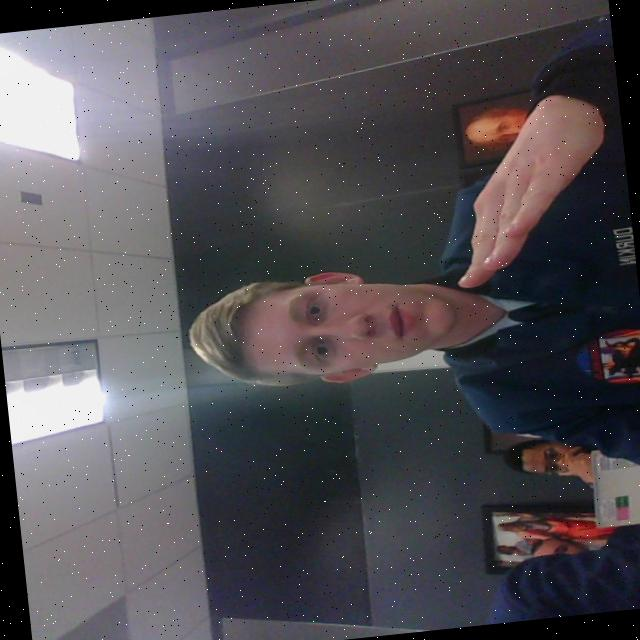paper: (421, 72, 628, 290)
